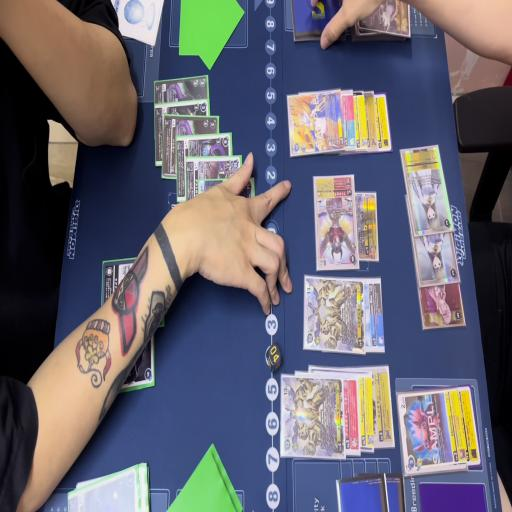card: (398, 383, 466, 482), (279, 376, 345, 463), (301, 274, 366, 356), (400, 137, 456, 232), (312, 176, 360, 276), (100, 260, 168, 326), (64, 461, 149, 512), (282, 90, 342, 159), (151, 100, 210, 164), (186, 159, 244, 222), (175, 134, 230, 196), (164, 115, 216, 178), (406, 225, 460, 285), (354, 0, 419, 45), (416, 280, 466, 334), (457, 376, 485, 470), (371, 361, 395, 459), (122, 324, 154, 387), (356, 189, 382, 265), (364, 275, 386, 360), (152, 71, 210, 102), (342, 370, 361, 462), (357, 366, 373, 459), (350, 86, 369, 158), (338, 87, 357, 157), (363, 83, 379, 160), (374, 88, 391, 158), (243, 176, 259, 212)
